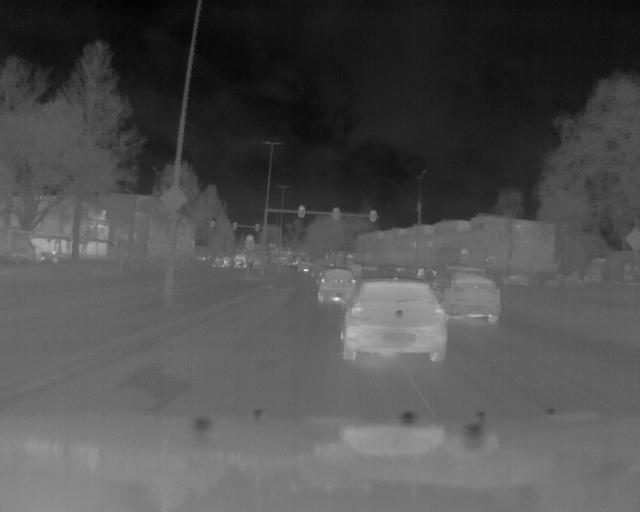car: (336, 273, 451, 363), (430, 269, 503, 325), (315, 265, 356, 304)
